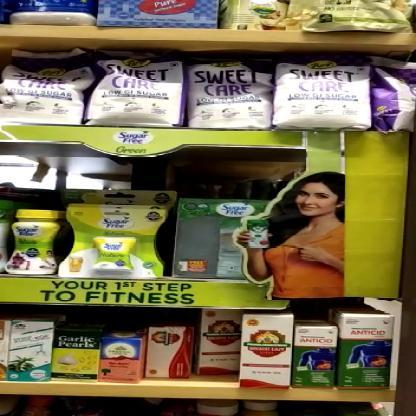SUGAR FREE NATURA 500 PELLET: (71, 207, 163, 278)
SUGAR FREE NATURA_ POWDER_CONC_100G: (13, 208, 65, 276)
